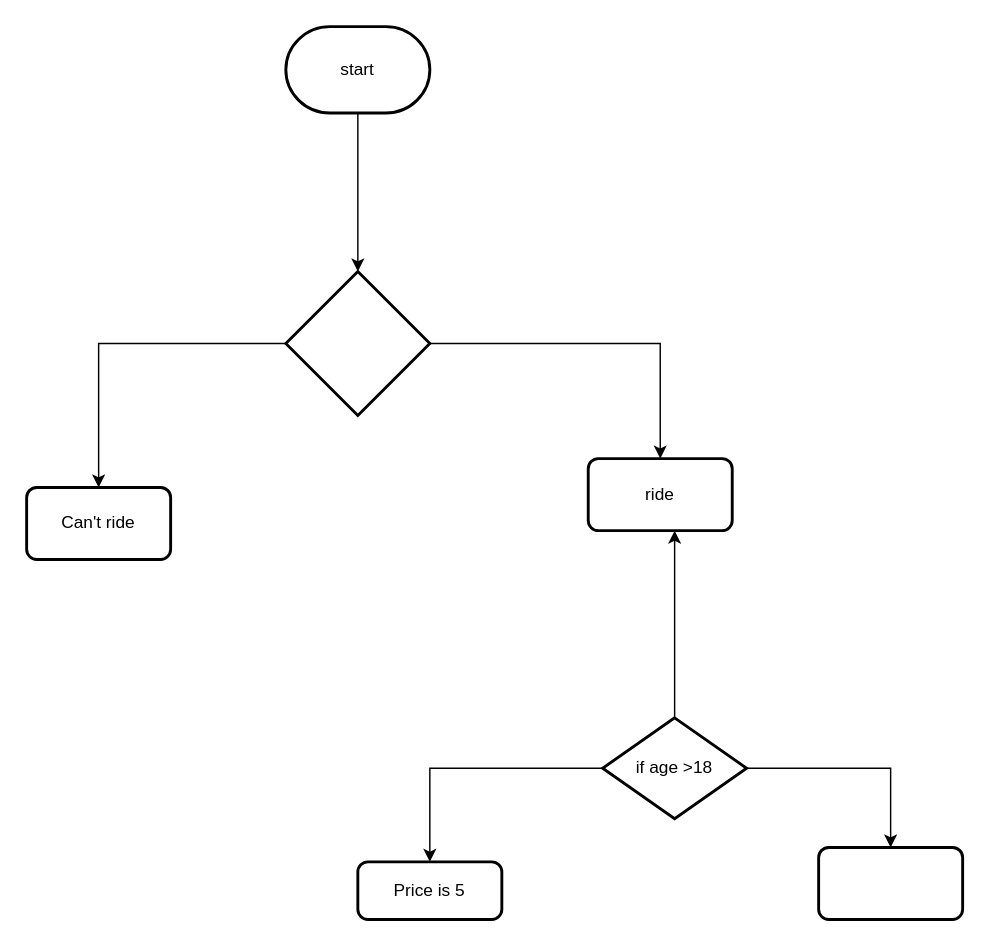
The diagram is 988 pixels wide and 945 high, and some of its shapes have lost their labels. Each missing label, with the centre of its shape:
"if height >80cm" goes at (x=357, y=342).
"Price is Rs10" goes at (x=889, y=882).
